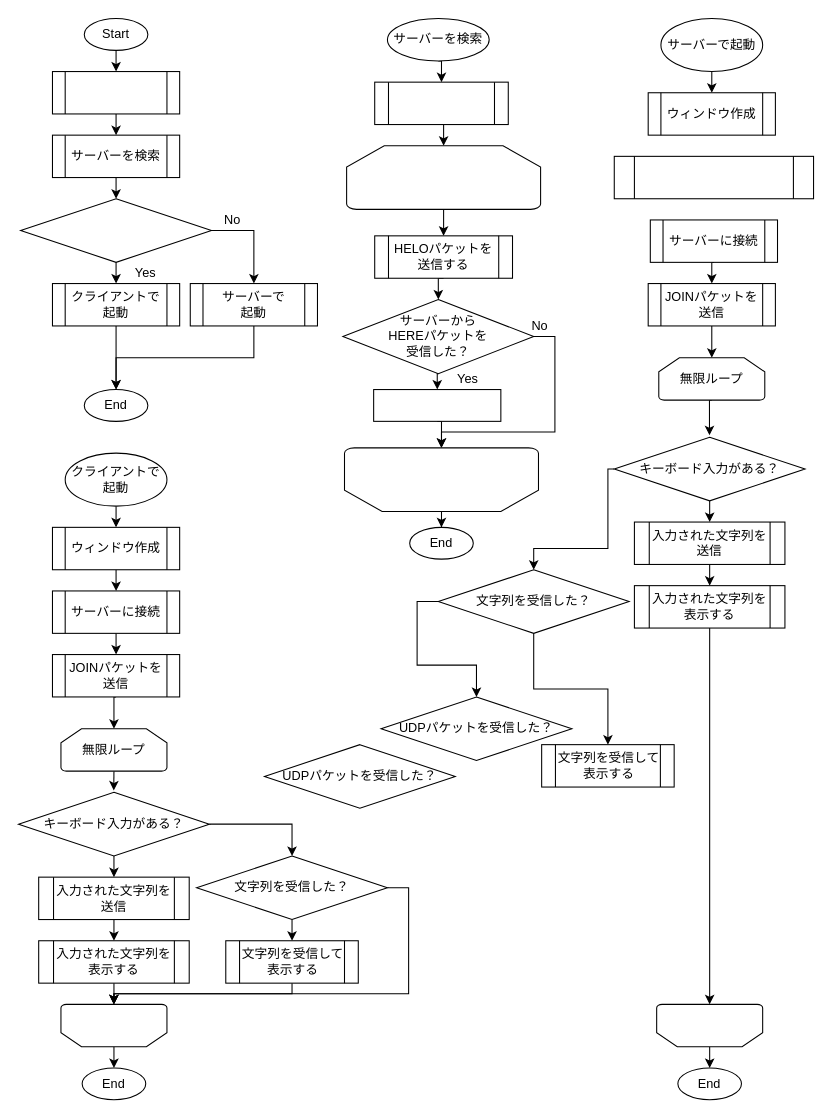
Image size: 832x1118. Some labels were removed from this diagram. The shapes that lost their labels are listed below. From the top down, each one's box as (x1, y1, x2, y2) in pixels, then its label:
(51, 70, 180, 114): 引数の処理
(374, 81, 508, 125): ブロードキャストパケットを作成
(346, 145, 541, 209): 3回タイムアウトするまで または、サーバからHERE パケットを受信するまで
(613, 155, 814, 199): UDPサーバ、TCPサーバを起動する
(20, 198, 211, 262): サーバーが存在する？
(373, 388, 501, 421): ループを終了
